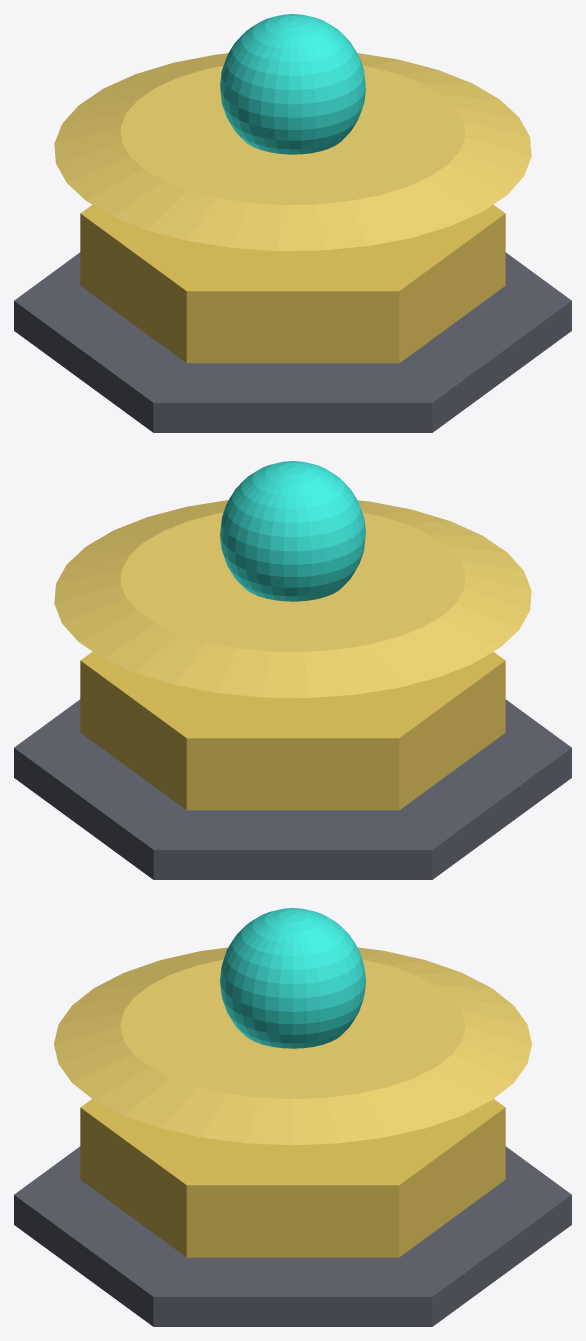
File: CO_ConYard.fbx
3 views of the same model, one above another, from view 1: azimuth 30°, elevation 25°; view 2: azimuth 150°, elevation 25°; view 3: azimuth 270°, elevation 25° (orthographic).
Visible parts, largest first — view 1: Cone, Cylinder.001, Cylinder, Sphere; view 2: Cone, Cylinder.001, Cylinder, Sphere; view 3: Cone, Cylinder.001, Cylinder, Sphere.
Boxes of the visible parts, x1,y1,x2,y2 form: Cone: [54, 53, 531, 250]; Cylinder.001: [80, 204, 505, 363]; Cylinder: [14, 252, 571, 432]; Sphere: [220, 14, 365, 154]; Cone: [54, 500, 531, 697]; Cylinder.001: [80, 651, 505, 810]; Cylinder: [14, 699, 571, 879]; Sphere: [220, 461, 365, 601]; Cone: [54, 947, 531, 1145]; Cylinder.001: [80, 1099, 505, 1257]; Cylinder: [14, 1146, 571, 1326]; Sphere: [220, 908, 365, 1048].
Bounding box in the file's own units: 727 × 515 × 840.
